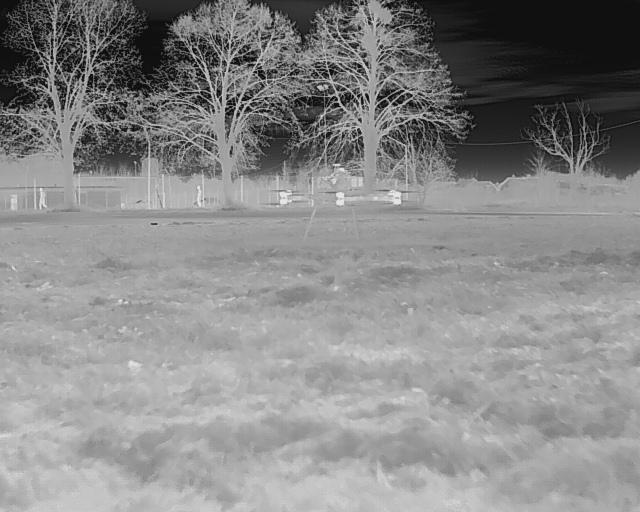drone: (260, 158, 417, 246)
